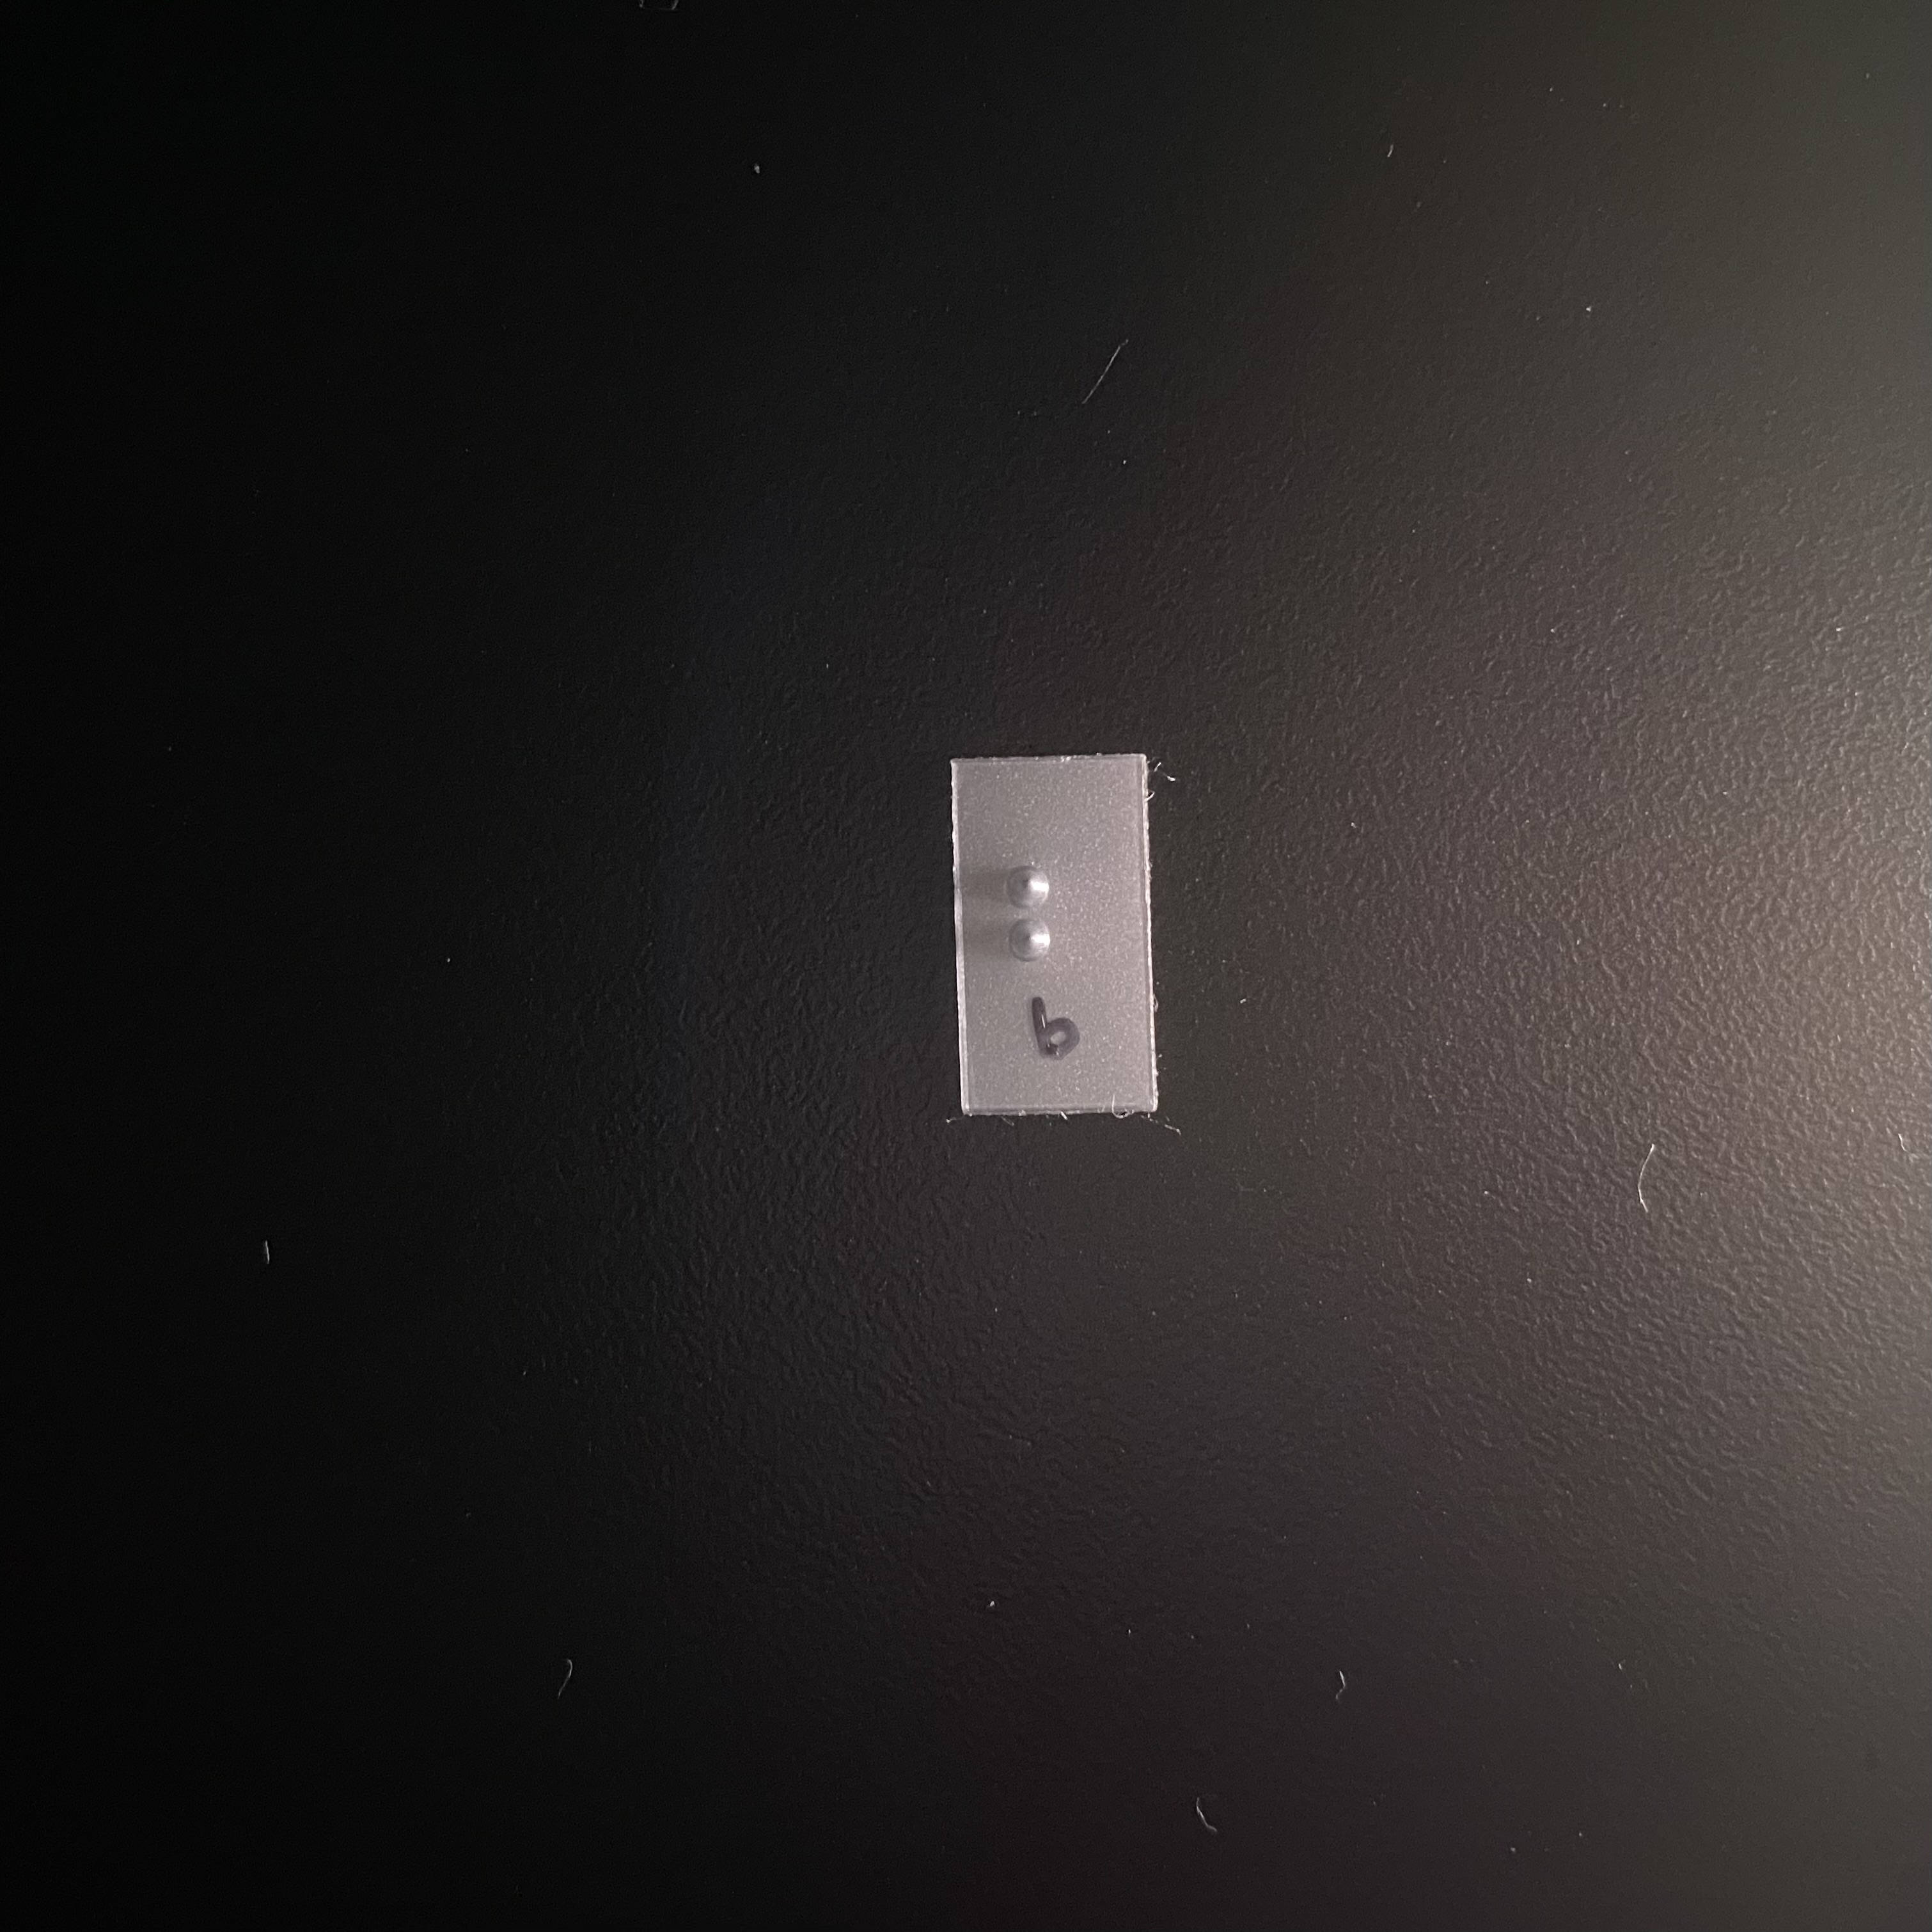b: (990, 838, 1120, 1042)
